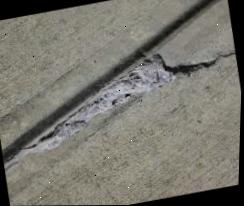spalling: (32, 53, 218, 149)
